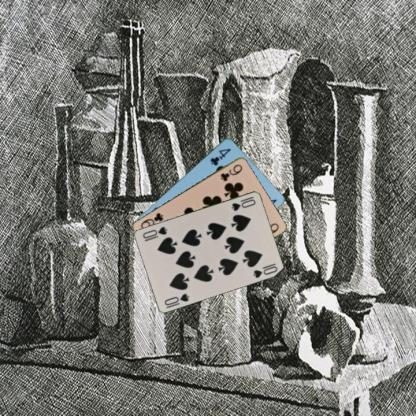10s: (229, 194, 256, 212), (162, 290, 190, 306)
4c: (208, 146, 232, 167)
9c: (218, 161, 244, 183)
